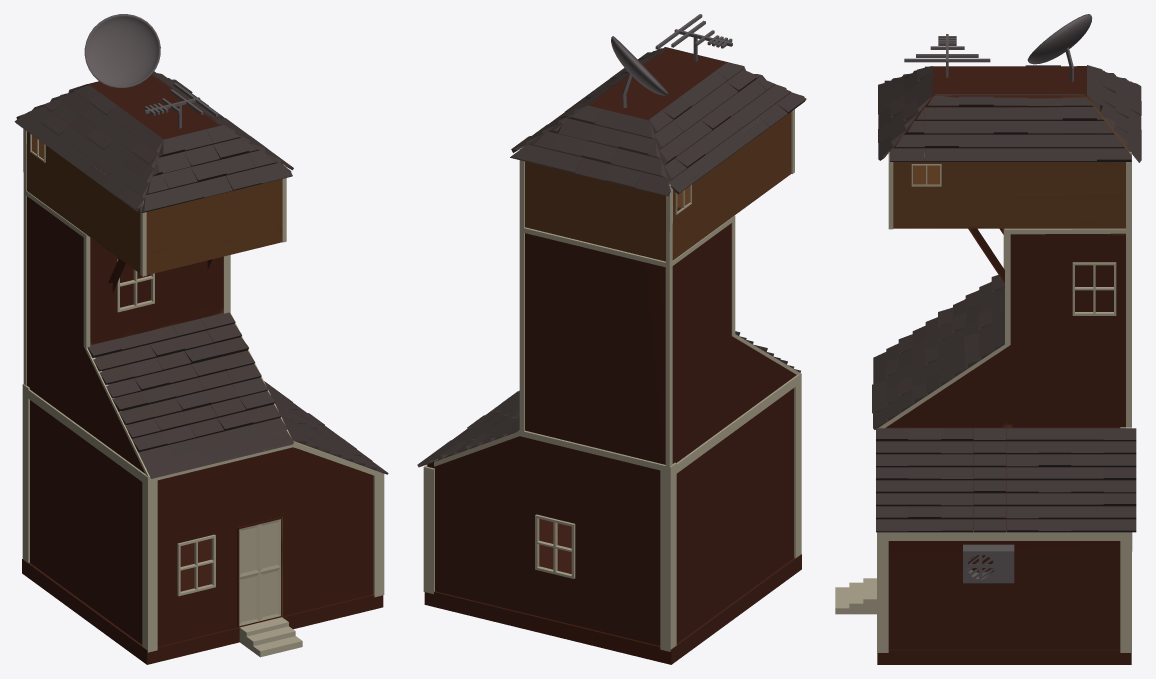
The model's file is talesfromtheloop.glb.
The picture shows the model from 3 angles, left to right: view 1: azimuth 30°, elevation 25°; view 2: azimuth 150°, elevation 25°; view 3: azimuth 270°, elevation 25°; orthographic projection. The views are drawn at different scales.
Parts seen in each view (by area): view 1: Base, Roof2, Supports1, TopRoof.001, TopRoof3, SatelliteDish, Door, Roof1, Steps, TopRoof, Window, Antenna (+1 smaller); view 2: Base, Supports1, TopRoof.001, TopRoof3.001, Roof1, TopRoof, Window.003, SatelliteDish, Antenna; view 3: Base, Roof1, TopRoof, Roof2, Supports1, TopRoof3.001, TopRoof3, AirconBox, SatelliteDish, Steps, Antenna, Window.002.
Part boxes in pixels (left/top/right/bottom): Base: left=22, top=74, right=383, bottom=664; Roof2: left=87, top=312, right=294, bottom=478; Supports1: left=22, top=114, right=384, bottom=652; TopRoof.001: left=14, top=85, right=163, bottom=211; TopRoof3: left=141, top=125, right=292, bottom=212; SatelliteDish: left=84, top=14, right=160, bottom=88; Door: left=239, top=519, right=280, bottom=625; Roof1: left=264, top=381, right=388, bottom=474; Steps: left=239, top=617, right=302, bottom=657; TopRoof: left=151, top=71, right=293, bottom=170; Window: left=177, top=534, right=215, bottom=596; Antenna: left=144, top=83, right=218, bottom=128; Base: left=424, top=47, right=801, bottom=664; Supports1: left=423, top=109, right=801, bottom=651; TopRoof.001: left=649, top=62, right=806, bottom=194; TopRoof3.001: left=510, top=105, right=670, bottom=196; Roof1: left=417, top=390, right=519, bottom=467; TopRoof: left=511, top=48, right=666, bottom=152; Window.003: left=535, top=514, right=575, bottom=578; SatelliteDish: left=611, top=36, right=668, bottom=107; Antenna: left=655, top=14, right=732, bottom=61; Base: left=877, top=66, right=1131, bottom=664; Roof1: left=876, top=428, right=1136, bottom=532; TopRoof: left=890, top=94, right=1131, bottom=161; Roof2: left=872, top=275, right=1004, bottom=429; Supports1: left=877, top=81, right=1131, bottom=652; TopRoof3.001: left=1087, top=65, right=1141, bottom=162; TopRoof3: left=878, top=66, right=932, bottom=160; AirconBox: left=963, top=544, right=1014, bottom=583; SatelliteDish: left=1027, top=14, right=1092, bottom=82; Steps: left=835, top=578, right=876, bottom=614; Antenna: left=904, top=34, right=990, bottom=77; Window.002: left=1072, top=262, right=1116, bottom=315.
Bounding box in the file's own units: 3.65 × 7.61 × 3.71.
Materials: 5 (5 with a texture image).
